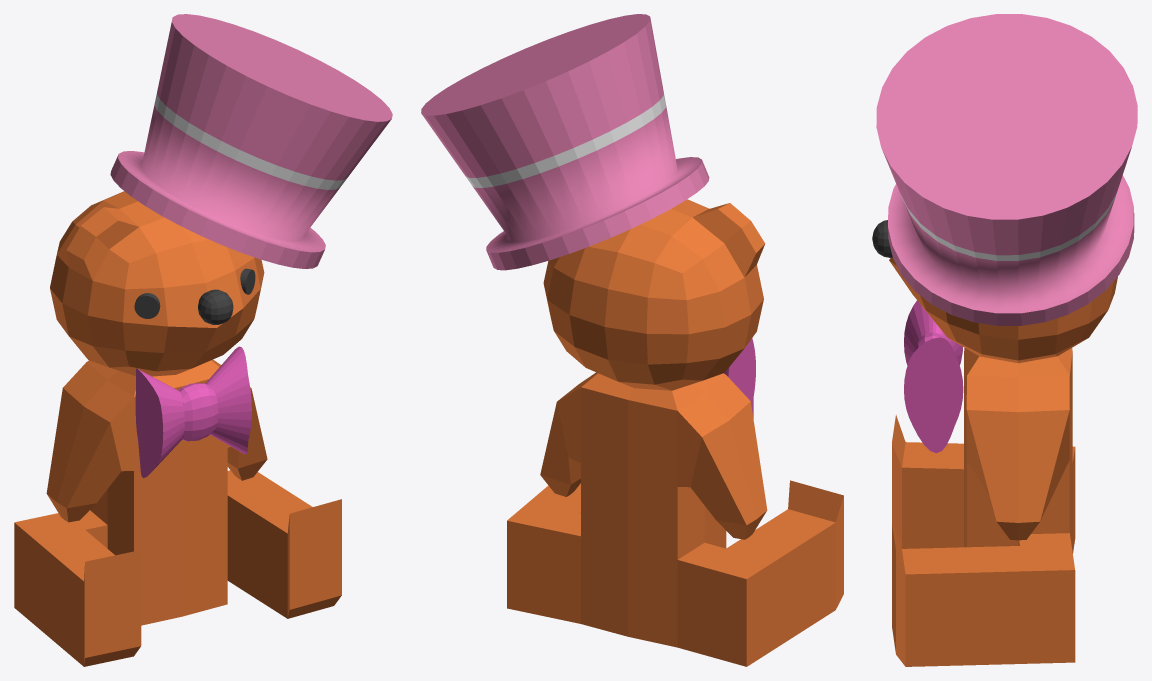
File: tedybear.fbx
The picture shows the model from 3 angles, left to right: view 1: azimuth 30°, elevation 25°; view 2: azimuth 150°, elevation 25°; view 3: azimuth 270°, elevation 25°; orthographic projection. The views are drawn at different scales.
Parts seen in each view (by area): view 1: 立方体, 円柱.001, 円柱, 立方体.002, 立方体.001, 円; view 2: 立方体, 円柱.001, 円柱; view 3: 円柱.001, 立方体, 円柱, 立方体.001.
Boxes of the visible parts, box(x1,y1,x2,y2) form: 立方体: box(14, 191, 341, 666); 円柱.001: box(110, 14, 392, 268); 円柱: box(135, 346, 251, 478); 立方体.002: box(178, 383, 218, 441); 立方体.001: box(198, 289, 233, 324); 円: box(134, 268, 255, 318); 立方体: box(507, 199, 843, 666); 円柱.001: box(421, 14, 709, 270); 円柱: box(724, 338, 755, 418); 円柱.001: box(876, 14, 1137, 325); 立方体: box(889, 258, 1117, 666); 円柱: box(904, 300, 963, 453); 立方体.001: box(872, 220, 892, 257).
Bounding box in the file's own units: 347 × 537 × 215.
